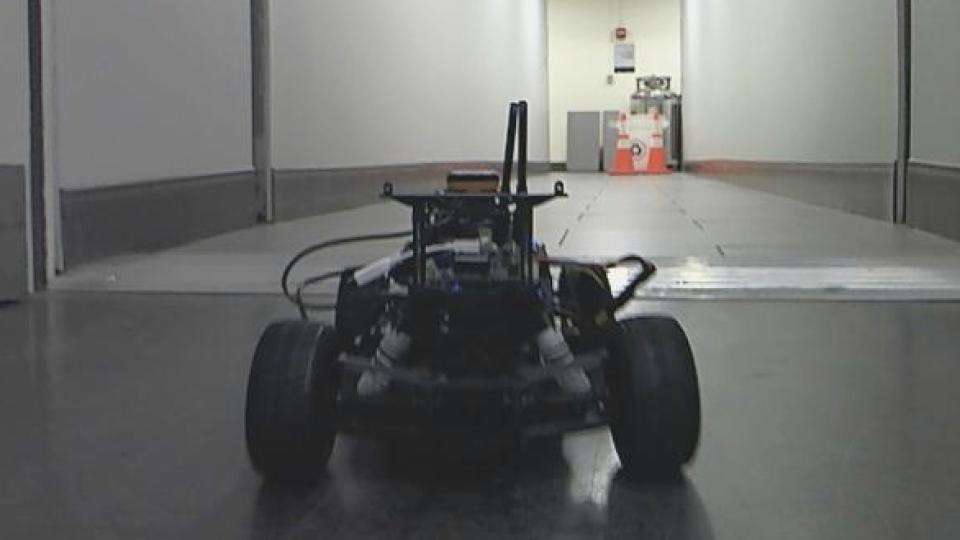car: (241, 97, 706, 487)
